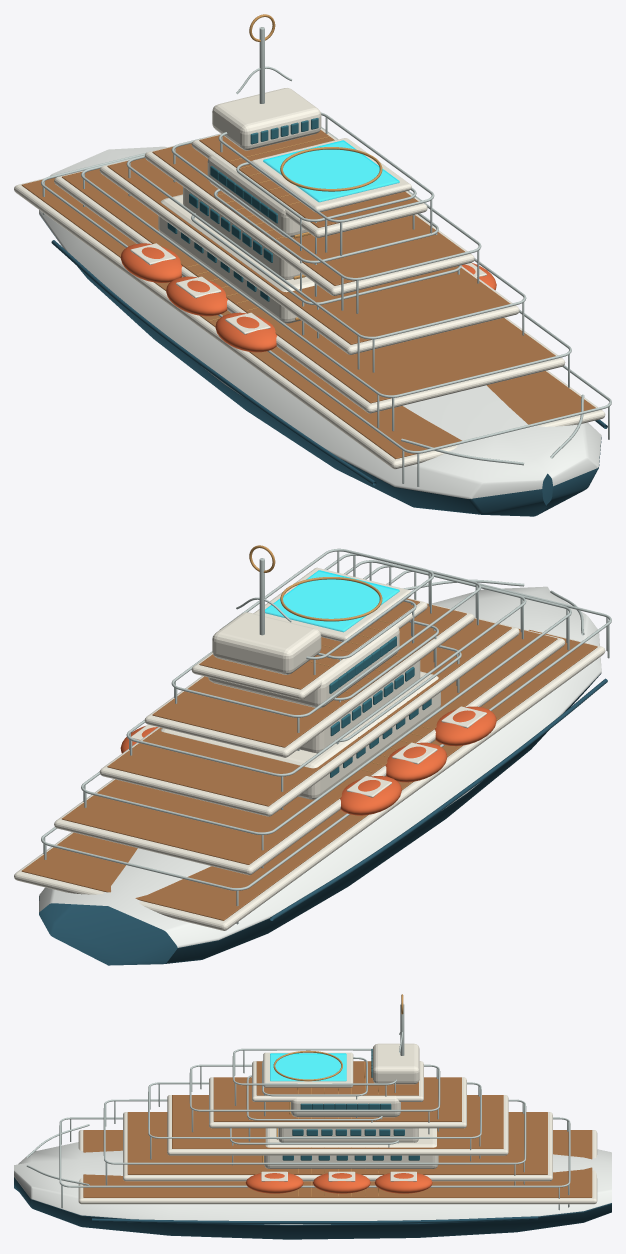
File: cruise-ship.glb
The picture shows the model from 3 angles, top to bottom: view 1: azimuth 30°, elevation 25°; view 2: azimuth 150°, elevation 25°; view 3: azimuth 270°, elevation 25°; orthographic projection. The views are drawn at different scales.
Parts seen in each view (by area): view 1: LuxuryYacht_Yacht_teak, LuxuryYacht_Yacht_deck_ivory, YachtHull, LuxuryYacht_Yacht_rail_chrome, LuxuryYacht_Yacht_lifeboat_orange, YachtPool, LuxuryYacht_Yacht_blue_glass, LuxuryYacht_Yacht_waterline_navy, LuxuryYacht_Yacht_warm_brass; view 2: LuxuryYacht_Yacht_teak, LuxuryYacht_Yacht_deck_ivory, YachtHull, LuxuryYacht_Yacht_rail_chrome, LuxuryYacht_Yacht_lifeboat_orange, YachtPool, LuxuryYacht_Yacht_blue_glass, LuxuryYacht_Yacht_waterline_navy, LuxuryYacht_Yacht_warm_brass; view 3: LuxuryYacht_Yacht_teak, LuxuryYacht_Yacht_deck_ivory, YachtHull, LuxuryYacht_Yacht_rail_chrome, LuxuryYacht_Yacht_lifeboat_orange, YachtPool, LuxuryYacht_Yacht_blue_glass, LuxuryYacht_Yacht_waterline_navy, LuxuryYacht_Yacht_warm_brass.
Boxes of the visible parts, x1,y1,x2,y2 form: LuxuryYacht_Yacht_teak: (21, 130, 595, 459); LuxuryYacht_Yacht_deck_ivory: (14, 88, 605, 469); YachtHull: (39, 146, 601, 516); LuxuryYacht_Yacht_rail_chrome: (41, 27, 611, 486); LuxuryYacht_Yacht_lifeboat_orange: (120, 243, 496, 352); YachtPool: (263, 140, 399, 202); LuxuryYacht_Yacht_blue_glass: (167, 118, 318, 301); LuxuryYacht_Yacht_waterline_navy: (51, 240, 607, 485); LuxuryYacht_Yacht_warm_brass: (249, 14, 382, 320); LuxuryYacht_Yacht_teak: (21, 598, 597, 920); LuxuryYacht_Yacht_deck_ivory: (14, 567, 605, 930); YachtHull: (39, 586, 601, 965); LuxuryYacht_Yacht_rail_chrome: (41, 548, 611, 924); LuxuryYacht_Yacht_lifeboat_orange: (120, 706, 496, 815); YachtPool: (265, 570, 399, 632); LuxuryYacht_Yacht_blue_glass: (329, 636, 431, 777); LuxuryYacht_Yacht_waterline_navy: (270, 678, 607, 920); LuxuryYacht_Yacht_warm_brass: (249, 545, 382, 621); LuxuryYacht_Yacht_teak: (83, 1061, 592, 1197); LuxuryYacht_Yacht_deck_ivory: (78, 1043, 597, 1204); YachtHull: (14, 1142, 611, 1239); LuxuryYacht_Yacht_rail_chrome: (26, 1004, 570, 1210); LuxuryYacht_Yacht_lifeboat_orange: (245, 1173, 432, 1193); YachtPool: (270, 1053, 346, 1081); LuxuryYacht_Yacht_blue_glass: (282, 1049, 419, 1160); LuxuryYacht_Yacht_waterline_navy: (92, 1216, 538, 1223); LuxuryYacht_Yacht_warm_brass: (262, 994, 403, 1162).
Bounding box in the file's own units: 7.76 × 9.4 × 22.25.
